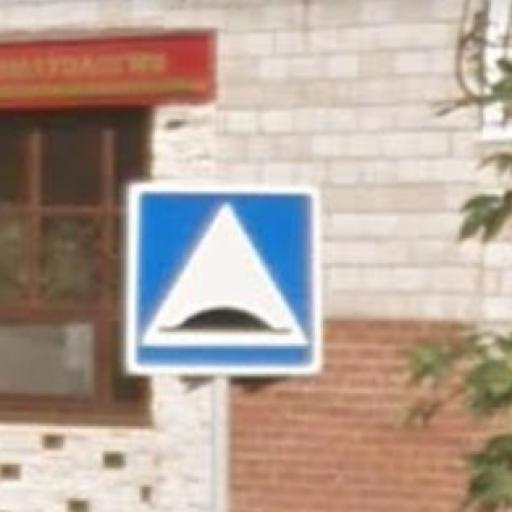traffic_sign: (124, 180, 324, 379)
